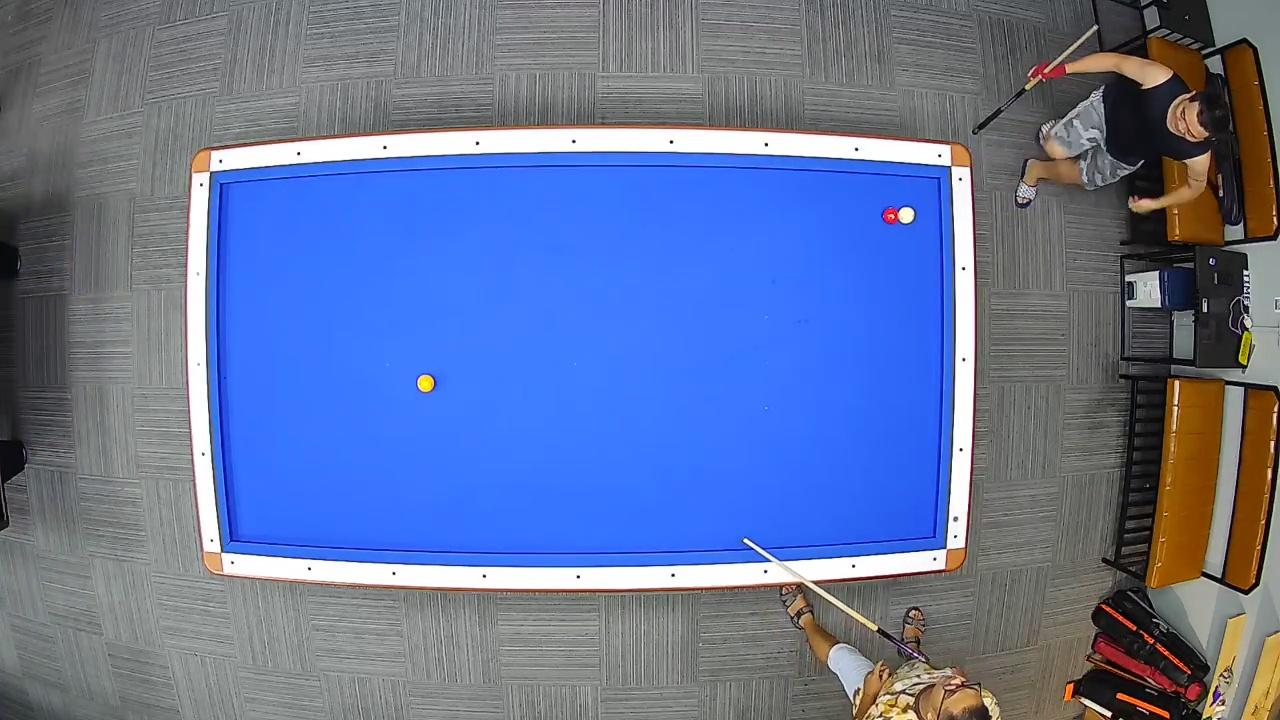Red: (881, 205, 898, 226)
Yellow: (414, 371, 437, 393), (898, 205, 916, 225)
